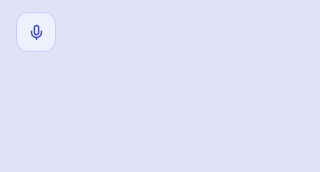
MicButton › يوقف التسجيل بالنقر الثاني ويعيد الحالة
Click the button named "بدء الإدخال الصوتي" at coordinates (36, 32), box 16,12 -> 56,52
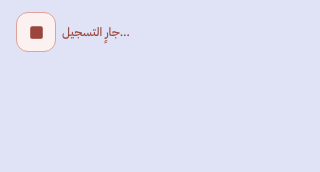
Click the button named "إيقاف الإدخال الصوتي" at coordinates (36, 32), box 16,12 -> 56,52
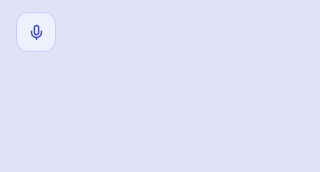
Check: the button named "بدء الإدخال الصوتي" is not pressed, box 16,12 -> 56,52
